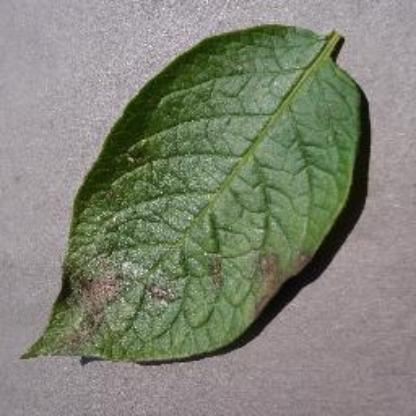Late-Blight: (29, 18, 399, 366)
